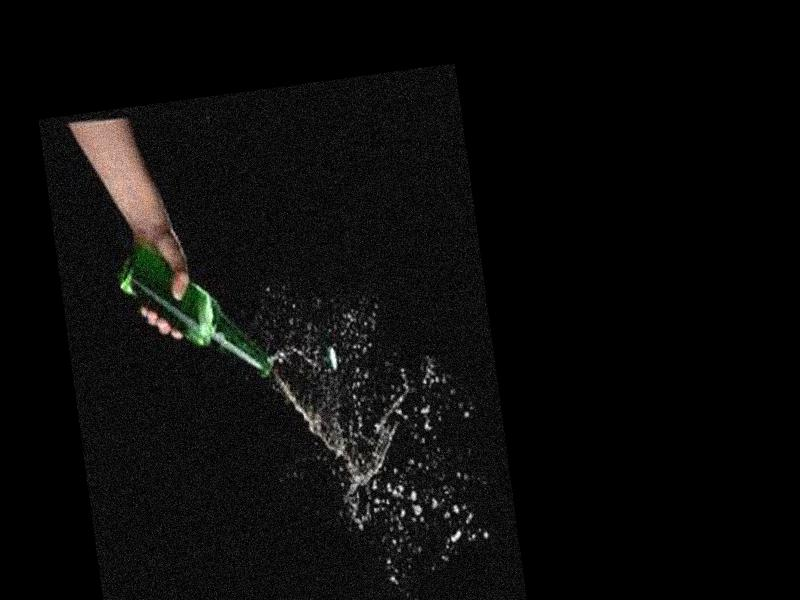Beer: (110, 223, 274, 392)
